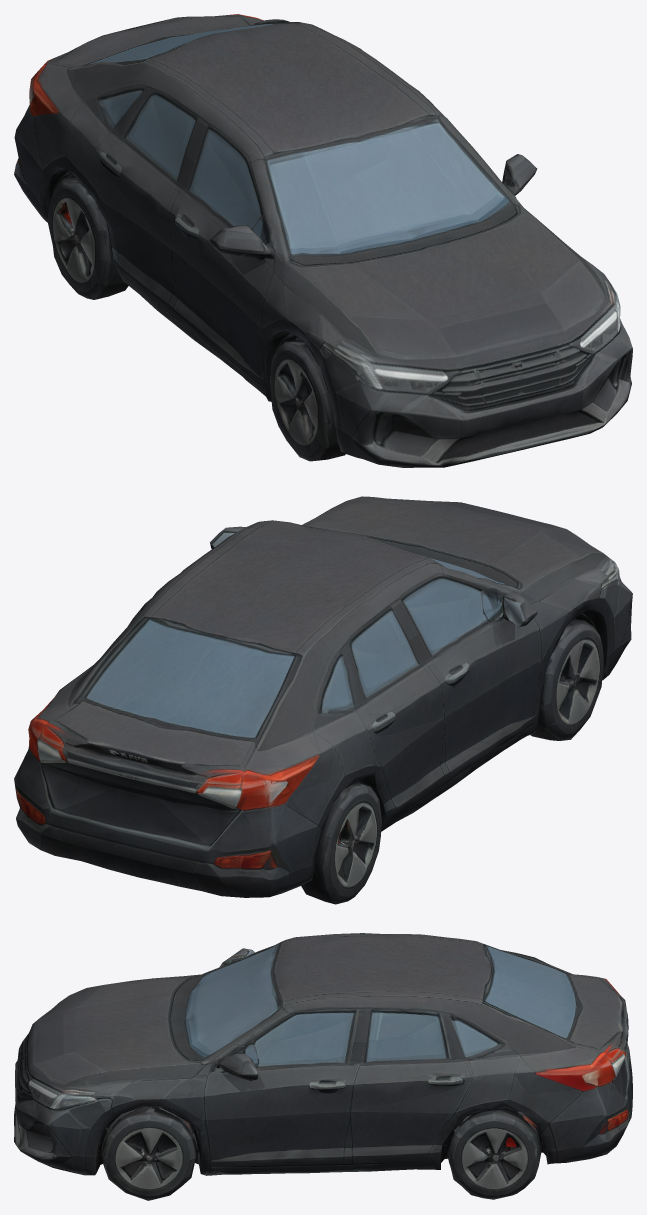
The model's file is Car_Sedan_02.glb.
3 views of the same model, one above another, from view 1: azimuth 30°, elevation 25°; view 2: azimuth 150°, elevation 25°; view 3: azimuth 270°, elevation 25° (orthographic). The views are drawn at different scales.
Parts seen in each view (by area): view 1: texture_mapping; view 2: texture_mapping; view 3: texture_mapping.
Boxes of the visible parts, x1,y1,x2,y2 form: texture_mapping: (14, 14, 632, 467); texture_mapping: (14, 496, 632, 904); texture_mapping: (14, 933, 632, 1200).
Size of the model in its own units: 0.4637 by 0.3355 by 1.
1 material, 1 textured.
